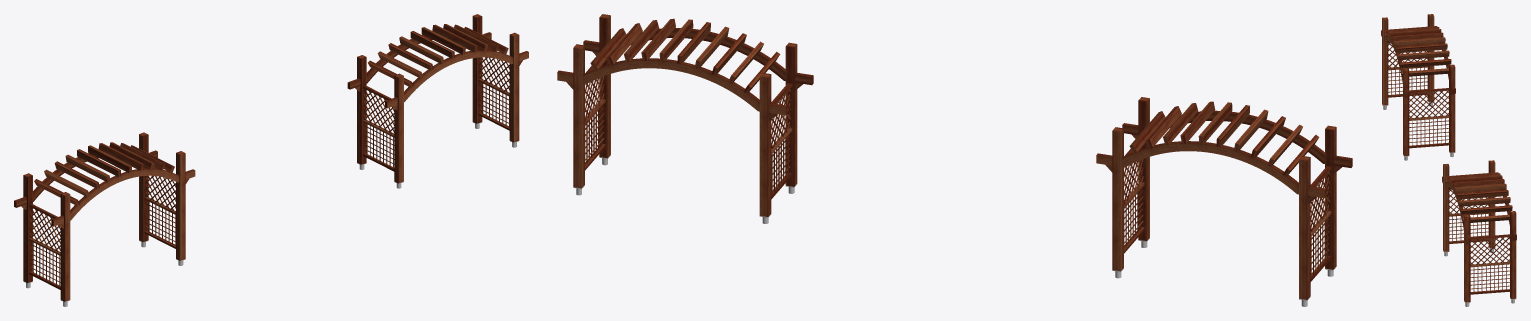
The model's file is central_park_woodgate_A.FBX.
3 views of the same model, side by side, from view 1: azimuth 30°, elevation 25°; view 2: azimuth 150°, elevation 25°; view 3: azimuth 270°, elevation 25° (orthographic). The views are drawn at different scales.
Visible parts, largest first — view 1: central_park_woodgate_A001, central_park_woodgate_A; view 2: central_park_woodgate_A001, central_park_woodgate_A; view 3: central_park_woodgate_A, central_park_woodgate_A001.
Part boxes in pixels (x1,y1,x2,y2): central_park_woodgate_A001: (347,14,528,188); central_park_woodgate_A: (14,132,195,306); central_park_woodgate_A001: (557,14,813,223); central_park_woodgate_A: (1096,97,1352,306); central_park_woodgate_A: (1381,14,1455,160); central_park_woodgate_A001: (1442,160,1516,306).
Size of the model in its own units: 1811 by 380 by 490.
